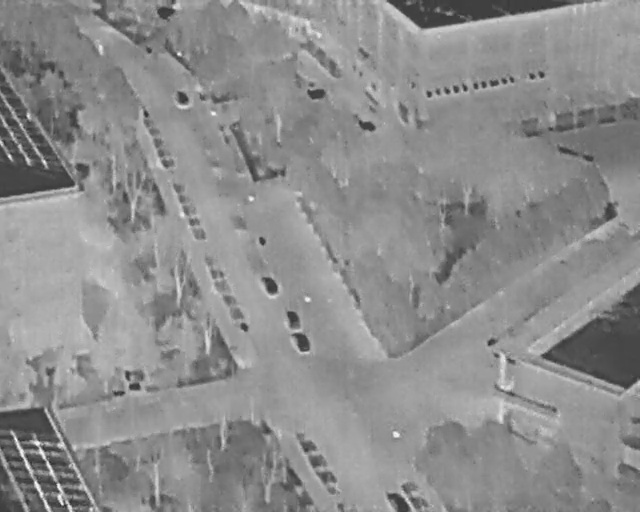Car: (401, 477, 428, 511), (291, 328, 312, 356), (259, 272, 280, 298), (387, 487, 408, 511), (174, 88, 190, 109), (286, 309, 301, 330)
